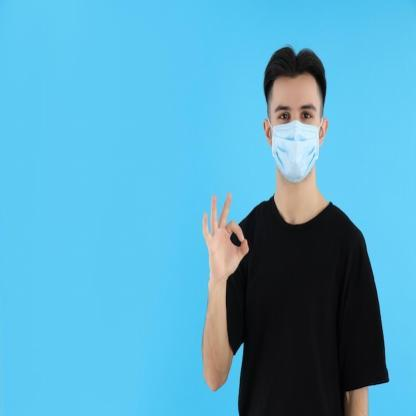ok: (202, 190, 251, 284)
